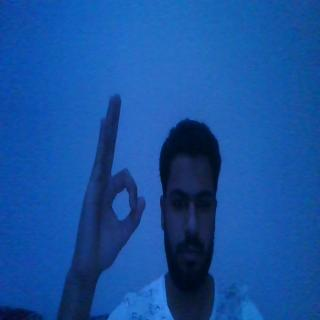Space: (71, 88, 148, 278)
